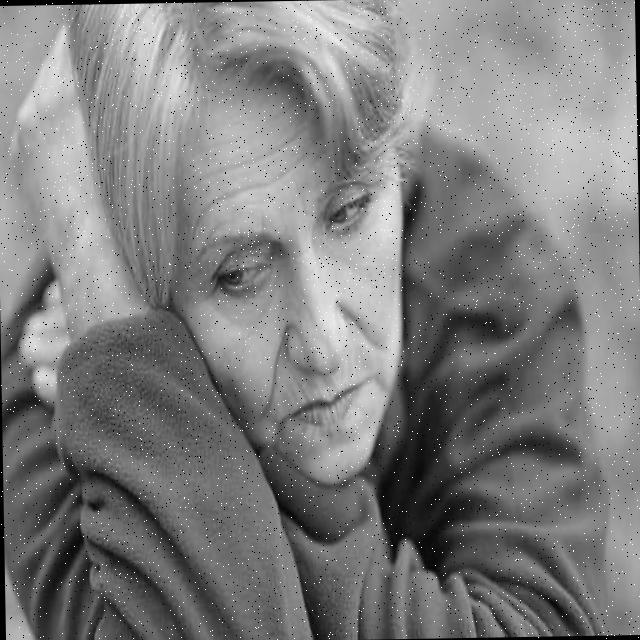Sadness: (176, 71, 404, 488)
